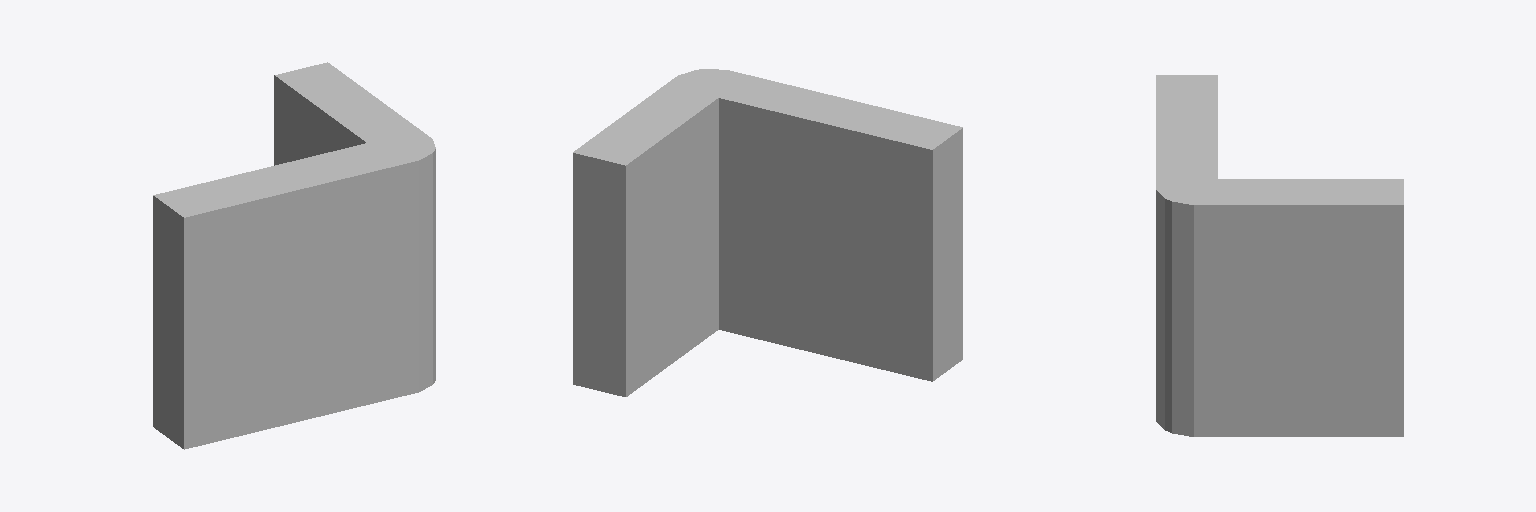
File: Wall angle.obj
3 renders of one model, left to right at view 1: azimuth 30°, elevation 25°; view 2: azimuth 150°, elevation 25°; view 3: azimuth 270°, elevation 25°, orthographic.
Visible parts, largest first — view 1: Wall angle; view 2: Wall angle; view 3: Wall angle.
Boxes of the visible parts, <box> form: Wall angle: <box>153,62,435,449</box>; Wall angle: <box>573,69,962,396</box>; Wall angle: <box>1156,75,1403,436</box>.
Size of the model in its own units: 1.25 by 1.04 by 1.